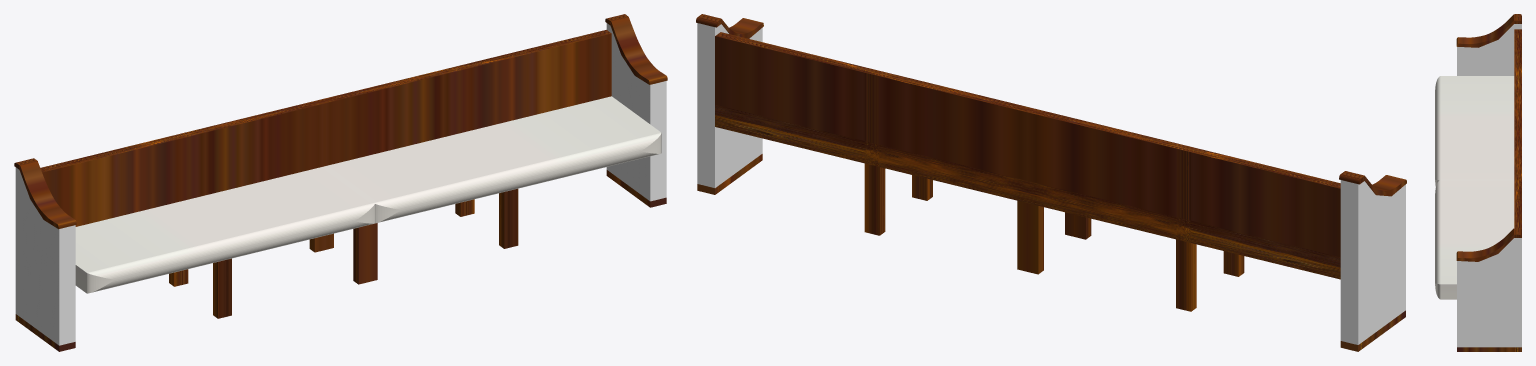
Rendered from Seats.glb.
The picture shows the model from 3 angles, left to right: view 1: azimuth 30°, elevation 25°; view 2: azimuth 150°, elevation 25°; view 3: azimuth 270°, elevation 25°; orthographic projection. The views are drawn at different scales.
Parts seen in each view (by area): view 1: Seats; view 2: Seats; view 3: Seats.
Boxes of the visible parts, left/top/right/bottom form: Seats: left=14, top=14, right=667, bottom=351; Seats: left=696, top=14, right=1406, bottom=351; Seats: left=1435, top=14, right=1521, bottom=351.
Size of the model in its own units: 5.22 by 1.3 by 0.8657.
3 materials, 2 textured.
